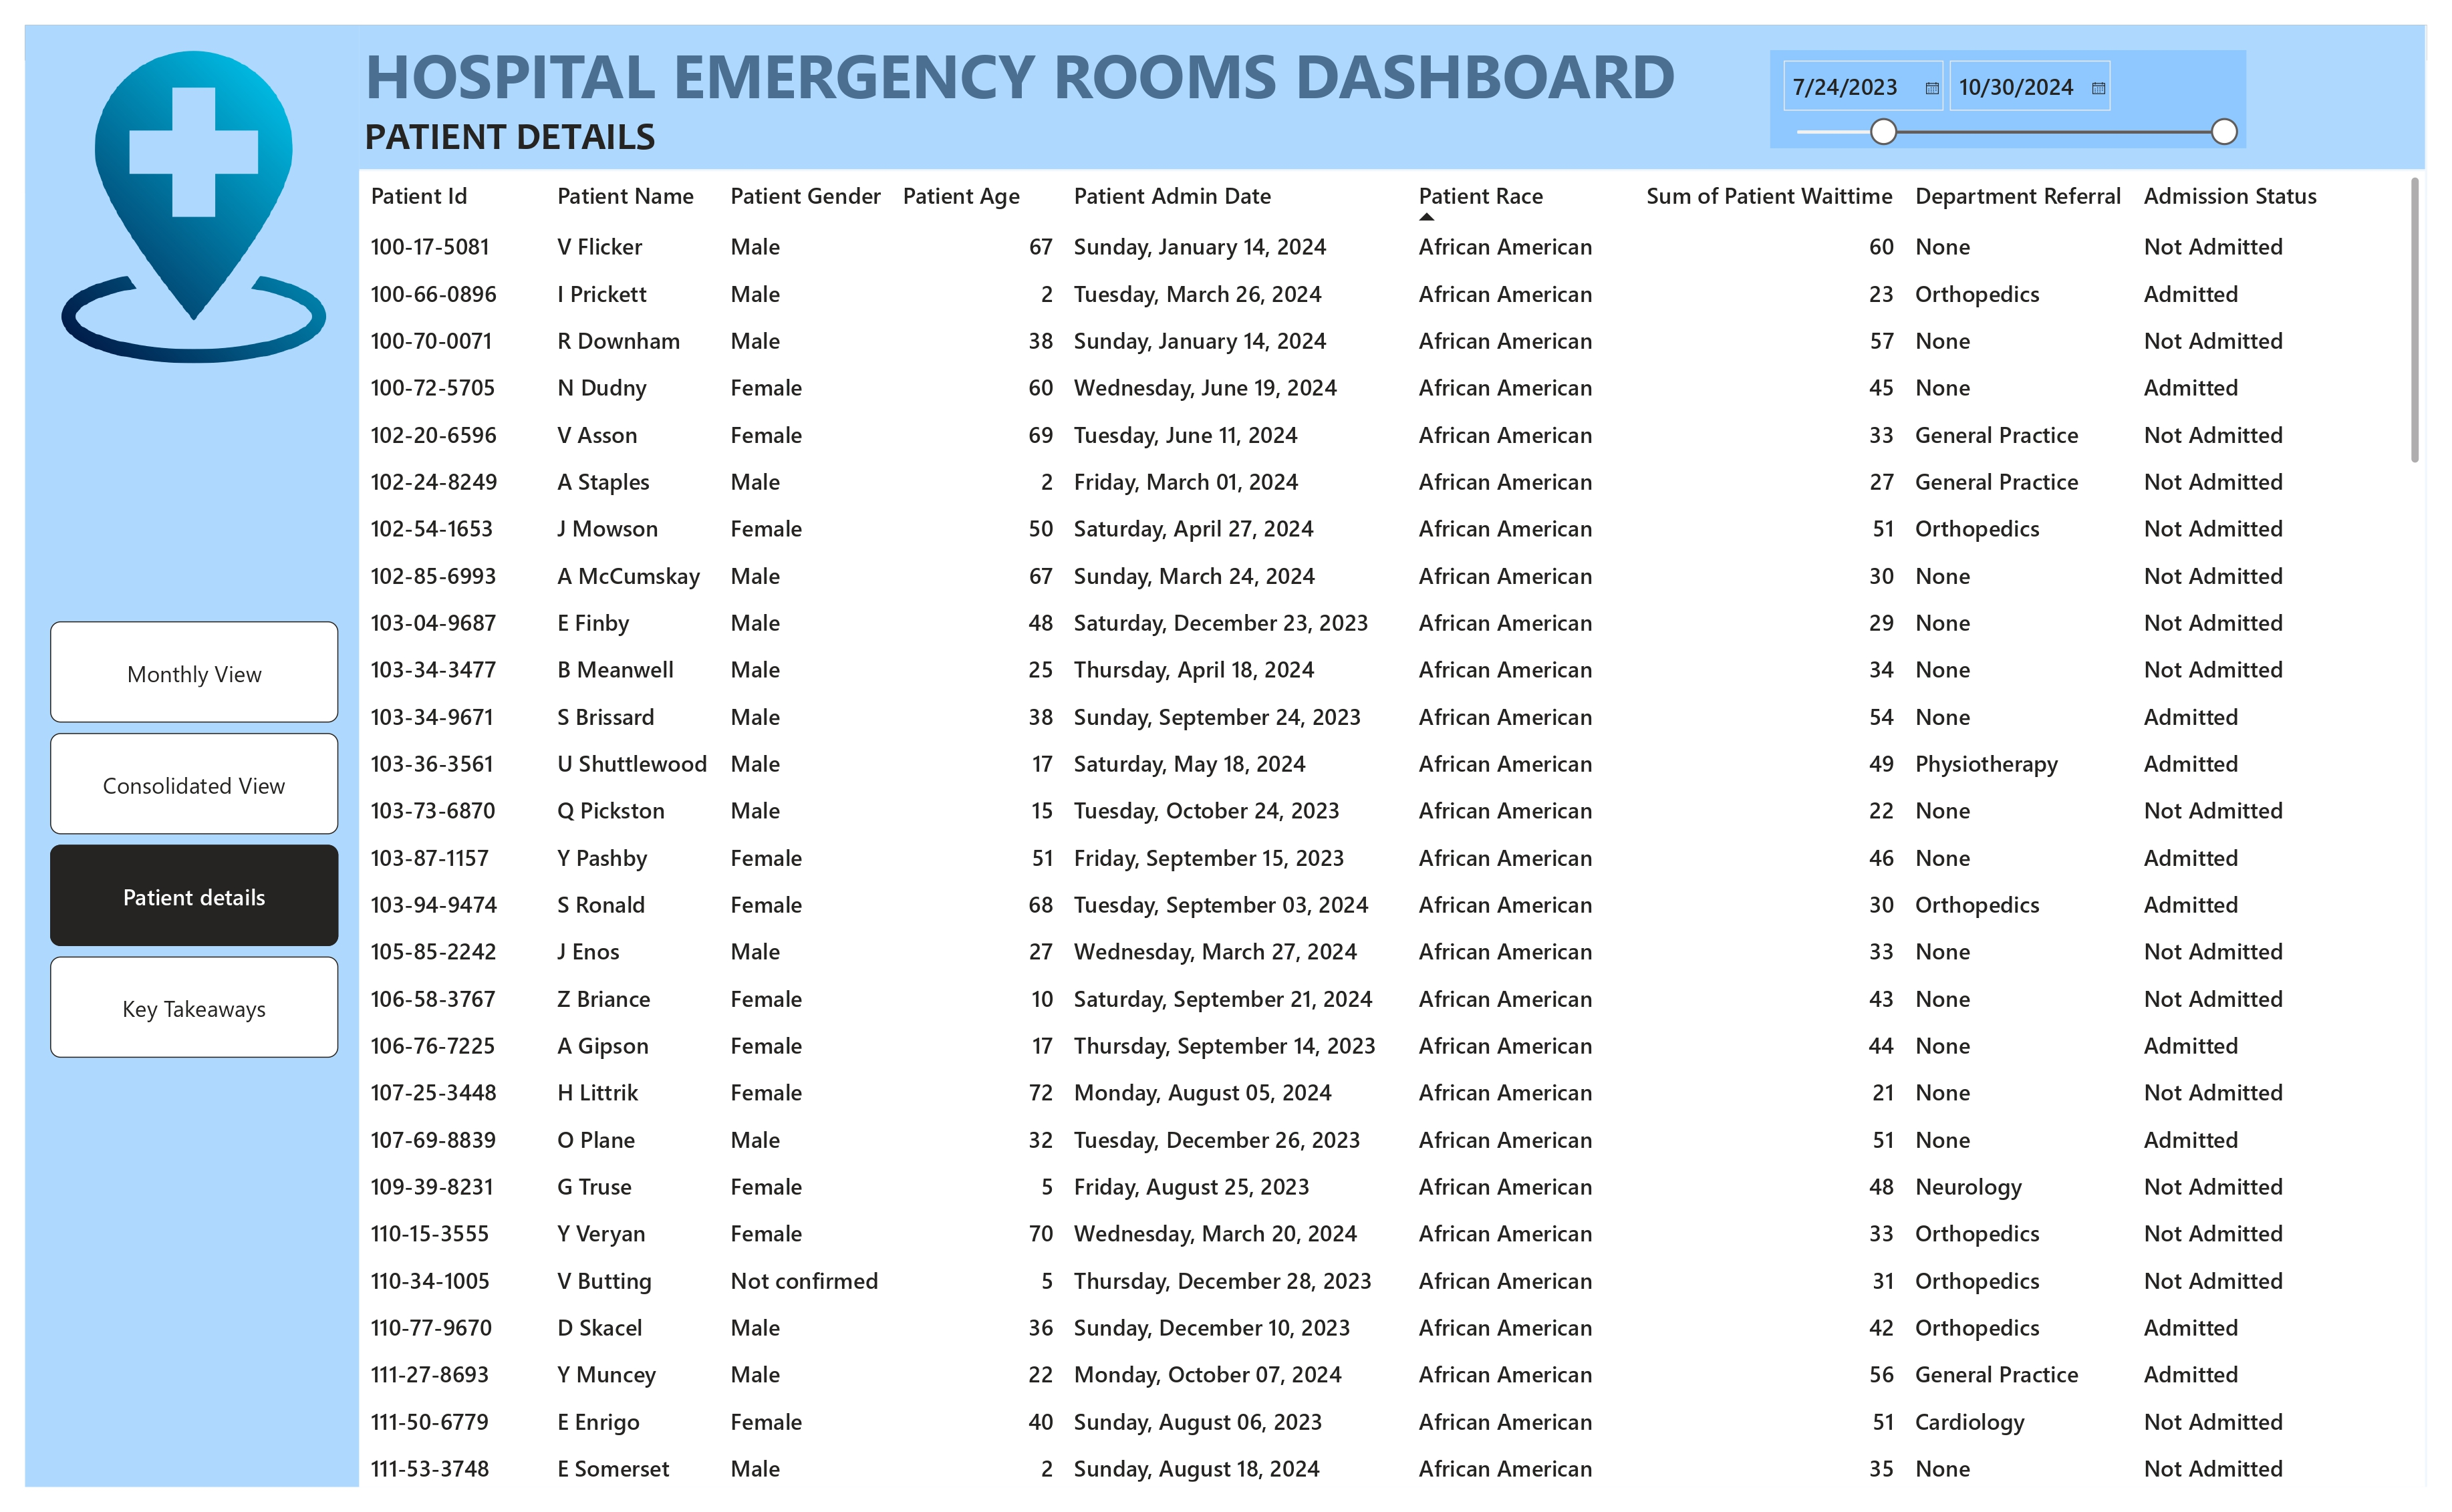

What the dashboard file says about the page in this screenshot:
{"tool":"powerbi","page":{"name":"Patient details","canvas":[2300,1400],"ordinal":2},"visuals":[{"type":"shape","box":[0,0,320,1400],"z":0},{"type":"textbox","box":[319.7,2.1,1289.2,137.9],"z":1000},{"type":"shape","box":[320,0,1977.8,137.8],"z":2000},{"type":"textbox","box":[320,77.8,397.8,62.2],"z":3000},{"type":"slicer","fields":{"Values":["Data Table.Date"]},"box":[1671.1,24.4,455.6,93.3],"z":4000},{"type":"image","box":[11.1,24.4,300,300],"z":5000},{"type":"tableEx","fields":{"Values":["Hospital ER_Data.Patient Id","Hospital ER_Data.Patient Full Name","Hospital ER_Data.Patient Gender","Sum(Hospital ER_Data.Patient Age)","Hospital ER_Data.Patient Admin Date","Hospital ER_Data.Patient Race","Sum(Hospital ER_Data.Patient Waittime)","Hospital ER_Data.Department Referral","Hospital ER_Data.Admission Status"]},"box":[320,140,1977.8,1260],"z":6000},{"type":"pageNavigator","box":[24.4,571.1,275.6,417.8],"z":7000}]}

Visuals, with their boxes on the page's 2300x1400 design canvas (x1, y1, x2, y2). These are canvas units, not pixel positions in the 2452x1512 screenshot, which may show the page scaled, cropped or inside an application window:
shape: pyautogui.locateOnScreen(0, 0, 320, 1400)
textbox: pyautogui.locateOnScreen(320, 2, 1609, 140)
shape: pyautogui.locateOnScreen(320, 0, 2298, 138)
textbox: pyautogui.locateOnScreen(320, 78, 718, 140)
slicer - Data Table.Date: pyautogui.locateOnScreen(1671, 24, 2127, 118)
image: pyautogui.locateOnScreen(11, 24, 311, 324)
tableEx - Hospital ER_Data.Patient Id x Hospital ER_Data.Patient Full Name: pyautogui.locateOnScreen(320, 140, 2298, 1400)
pageNavigator: pyautogui.locateOnScreen(24, 571, 300, 989)
